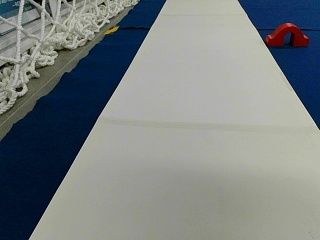bridge: (267, 23, 309, 45)
